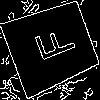F: (26, 22, 77, 67)
